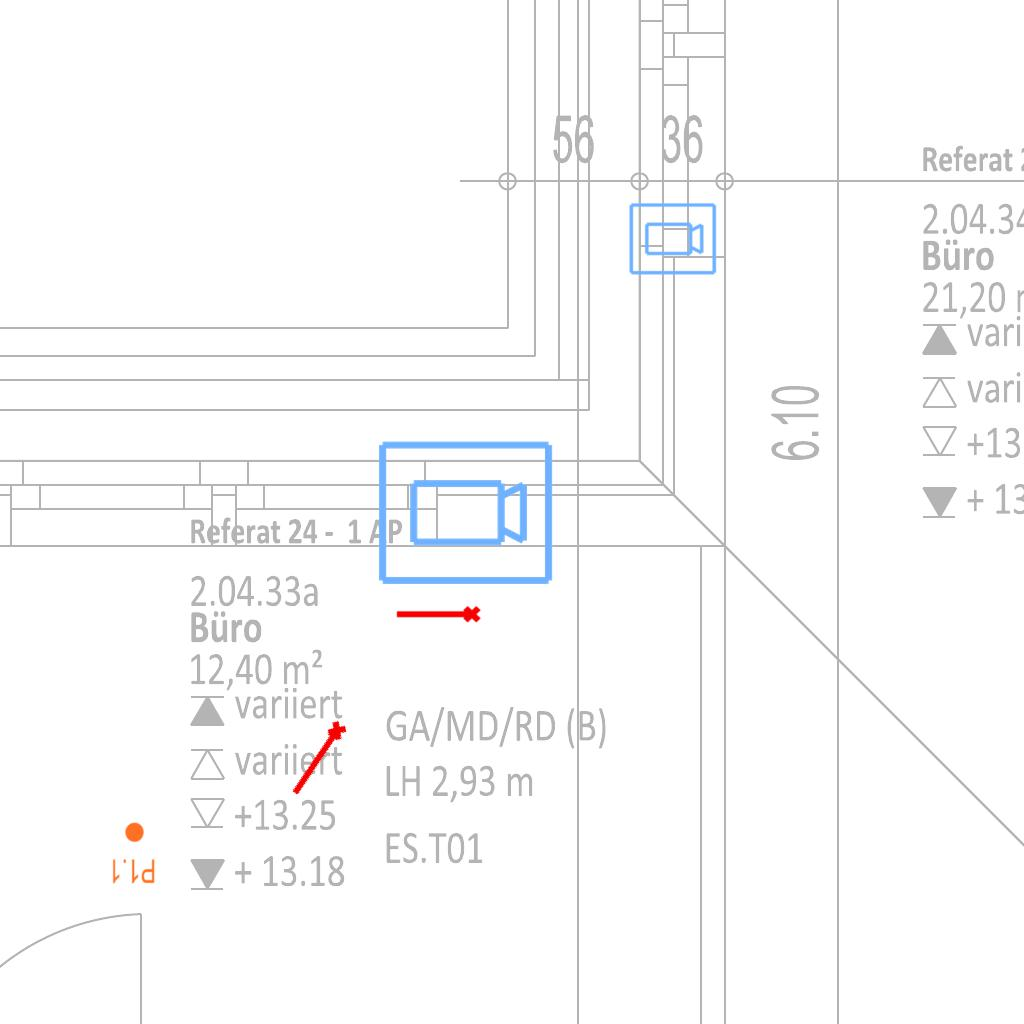ASR_Ansaugoeffnung: (284, 716, 354, 803), (394, 604, 482, 627)
Downlight_LED_Einbauleuchten_Flur: (110, 821, 156, 885)
KFO_Kamera_mit_Festobjektiv: (374, 437, 556, 591), (627, 201, 718, 278)
